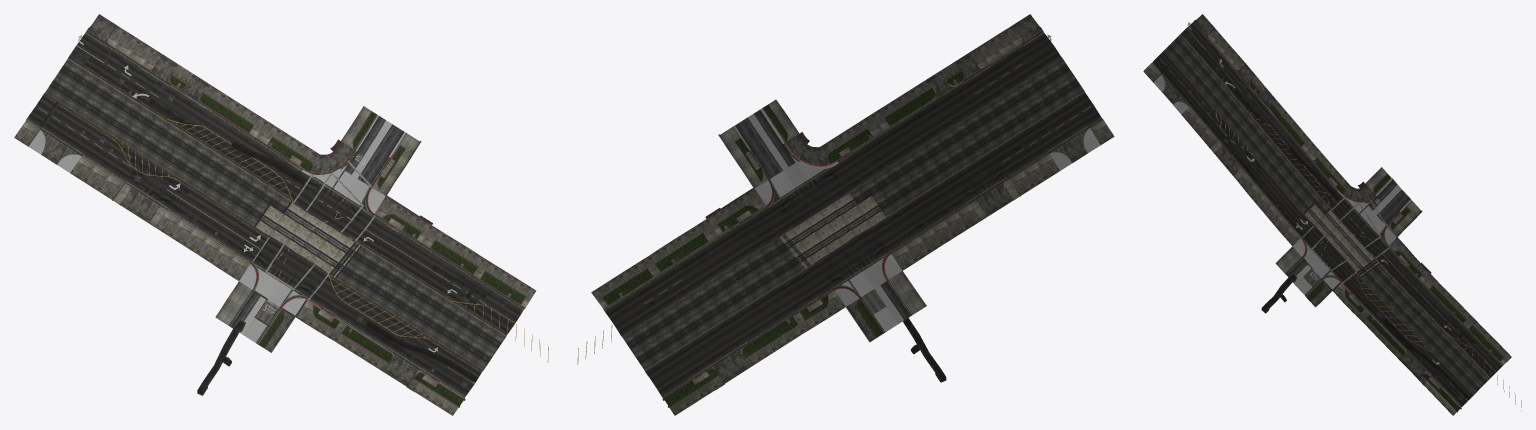
The picture shows the model from 3 angles, left to right: view 1: azimuth 30°, elevation 25°; view 2: azimuth 150°, elevation 25°; view 3: azimuth 330°, elevation 25°; orthographic projection. The views are drawn at different scales.
Visible parts, largest first — view 1: sc1_rd_r1_07; view 2: sc1_rd_r1_07; view 3: sc1_rd_r1_07.
Part boxes in pixels (<box>): sc1_rd_r1_07: <box>14,14,548,415</box>; sc1_rd_r1_07: <box>577,14,1114,415</box>; sc1_rd_r1_07: <box>1143,14,1521,415</box>.
Size of the model in its own units: 17382 by 15143 by 595.
